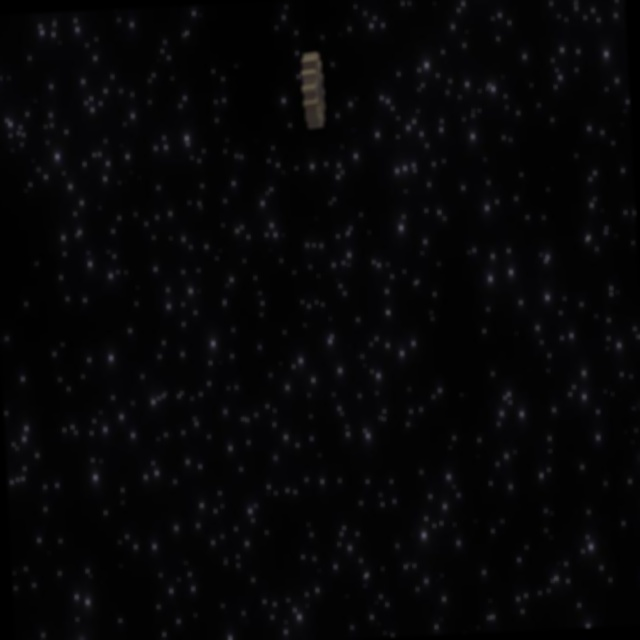large_debris: (299, 52, 330, 129)
